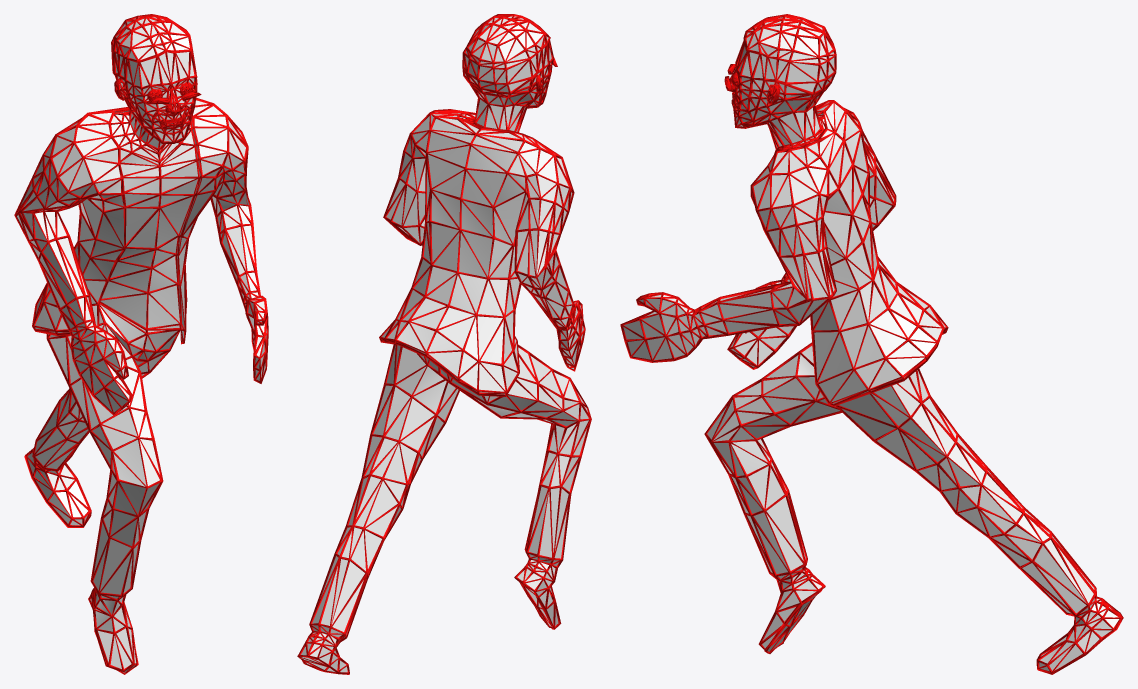
The model's file is elegantRun_000006.obj.
The picture shows the model from 3 angles, left to right: view 1: azimuth 30°, elevation 25°; view 2: azimuth 150°, elevation 25°; view 3: azimuth 270°, elevation 25°; orthographic projection. The views are drawn at different scales.
Parts seen in each view (by area): view 1: BaseHuman_Cylinder.002; view 2: BaseHuman_Cylinder.002; view 3: BaseHuman_Cylinder.002.
Part boxes in pixels (x1,y1,x2,y2): BaseHuman_Cylinder.002: (14, 14, 268, 674); BaseHuman_Cylinder.002: (297, 14, 591, 674); BaseHuman_Cylinder.002: (620, 14, 1123, 674).
Size of the model in its own units: 1.51 by 4.67 by 3.26.
